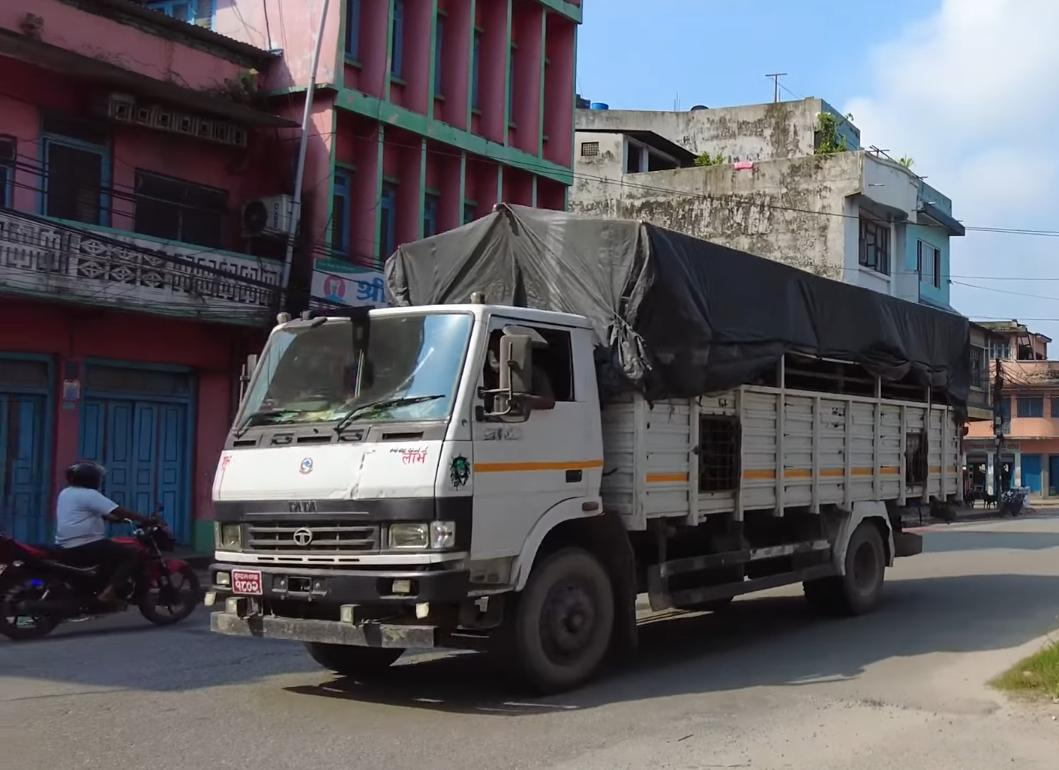bike: (0, 503, 200, 640)
truck: (202, 201, 972, 692)
